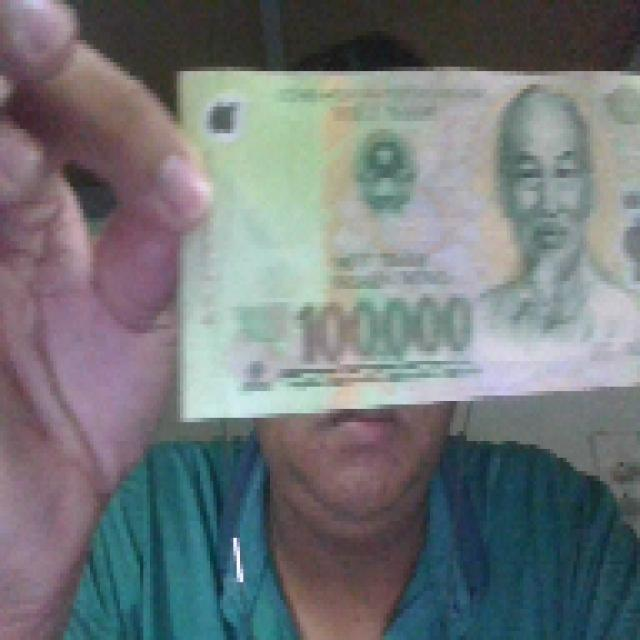100 000 VND: (170, 58, 636, 422)
